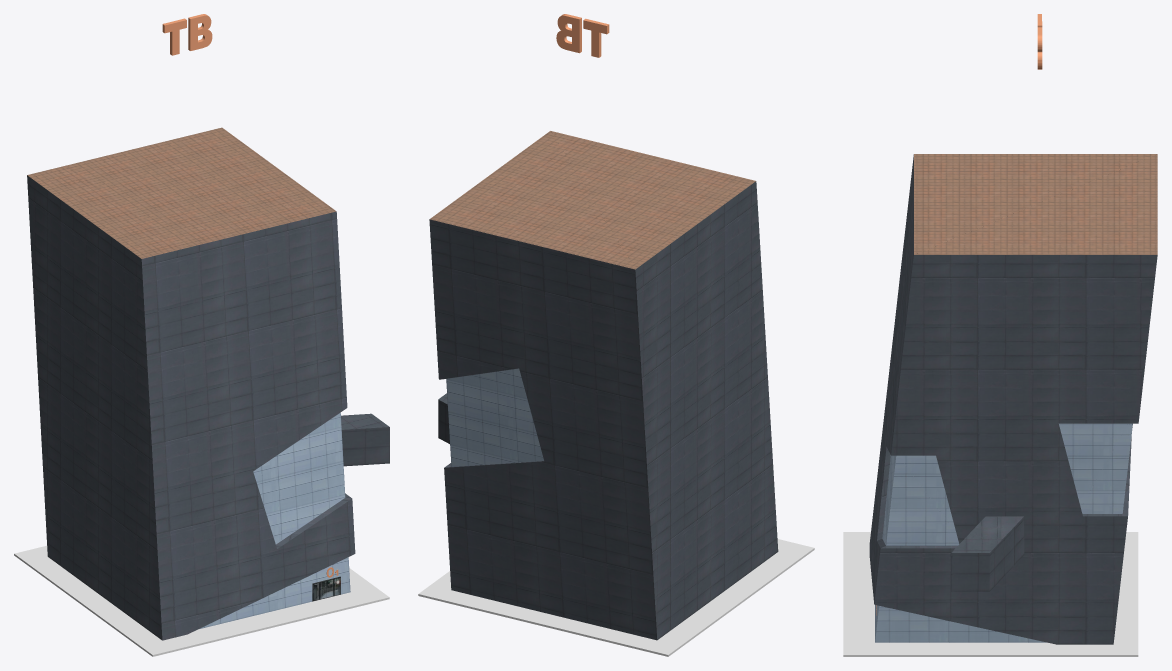
3 renders of one model, left to right at view 1: azimuth 30°, elevation 25°; view 2: azimuth 150°, elevation 25°; view 3: azimuth 270°, elevation 25°, orthographic. The views are drawn at different scales.
Parts seen in each view (by area): view 1: Group4, Group3, Group2, TB1; view 2: Group4, Group3, TB1; view 3: Group4, Group3, Group2.
Boxes of the visible parts, x1,y1,x2,y2 form: Group4: [27, 127, 355, 640]; Group3: [14, 545, 389, 656]; Group2: [341, 413, 389, 466]; TB1: [162, 14, 212, 55]; Group4: [429, 131, 778, 640]; Group3: [418, 539, 814, 656]; TB1: [556, 14, 609, 57]; Group4: [869, 154, 1157, 644]; Group3: [843, 532, 1138, 656]; Group2: [951, 516, 1024, 591].
Size of the model in its own units: 20.55 by 36.8 by 18.28.
8 materials, 4 textured.
